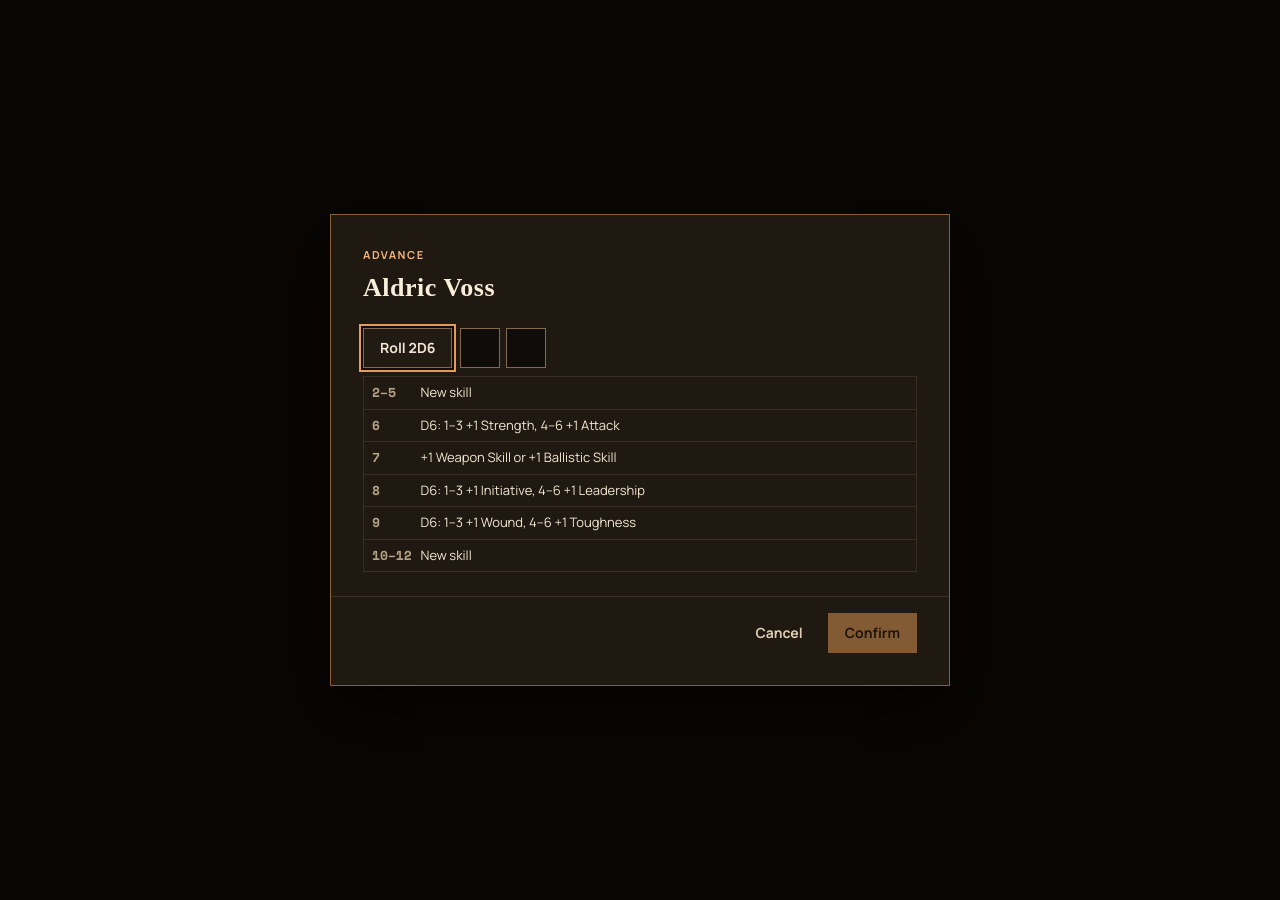
it: An advance on a written stat › warns that a written stat with no number gets nothing
Type "3" into the field named "First D6 rolled" at (480, 348), box [460,328,500,368]
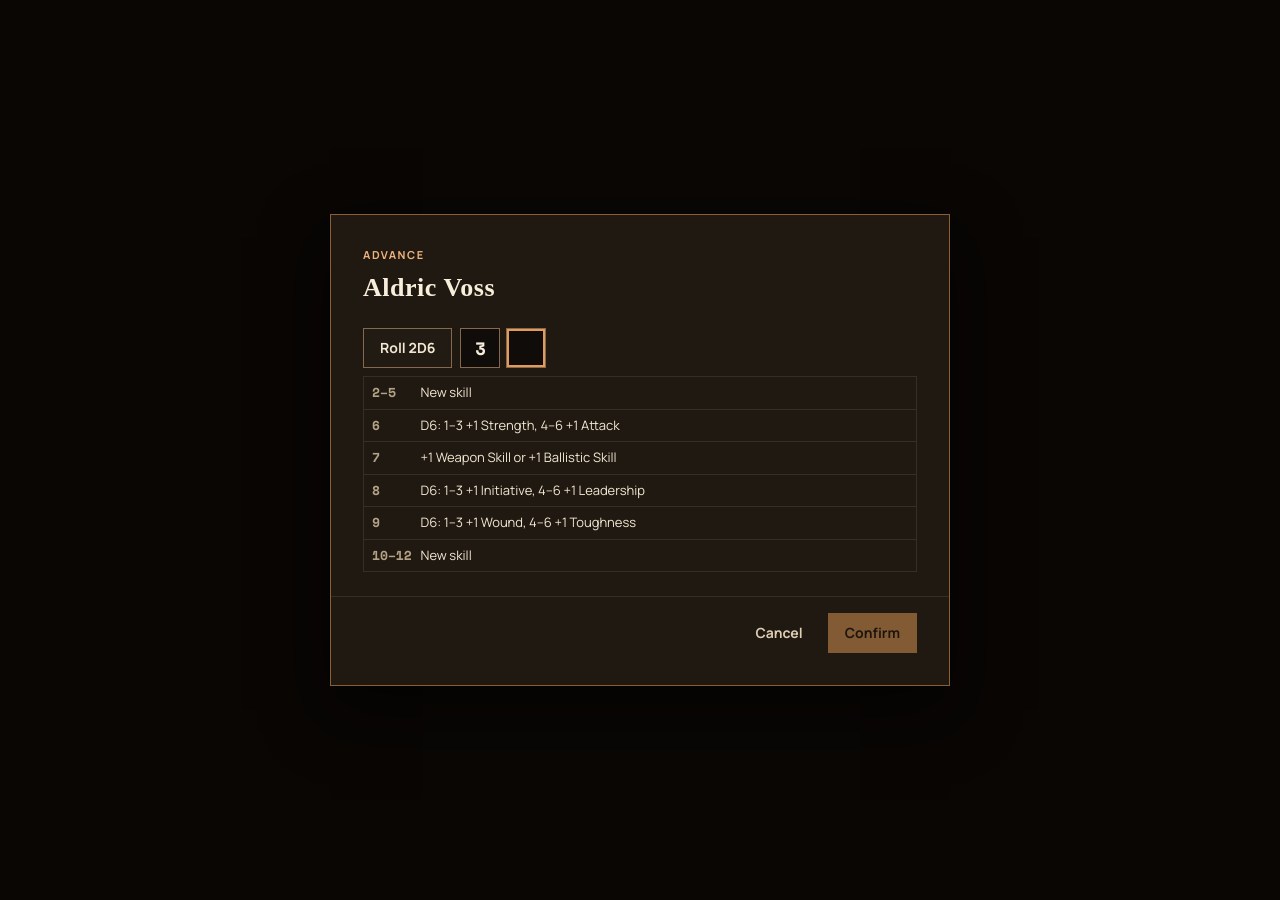
Type keys "4"
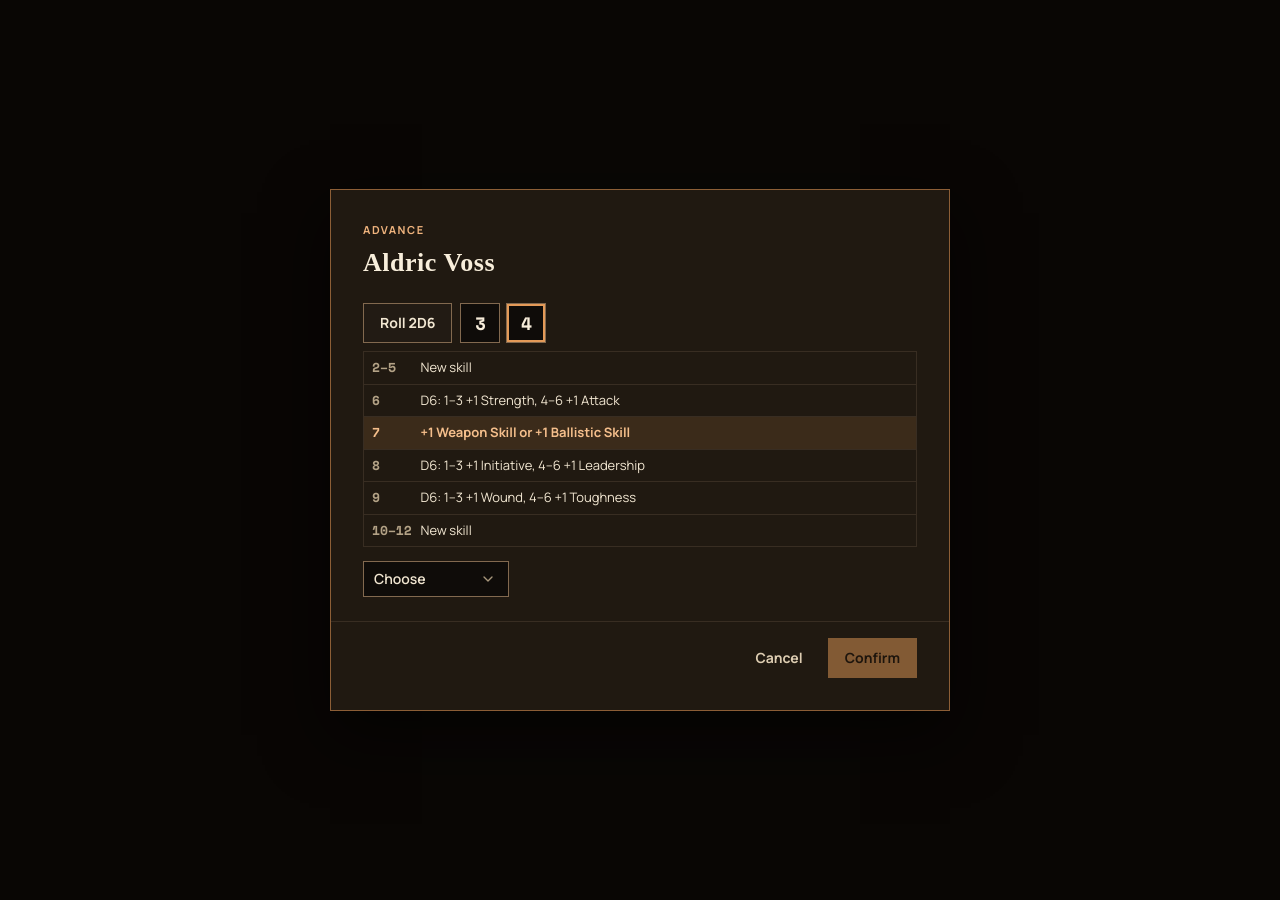
Select "+1 Weapon Skill" in the dropdown named "Characteristic" at (436, 579), box [363,561,509,597]
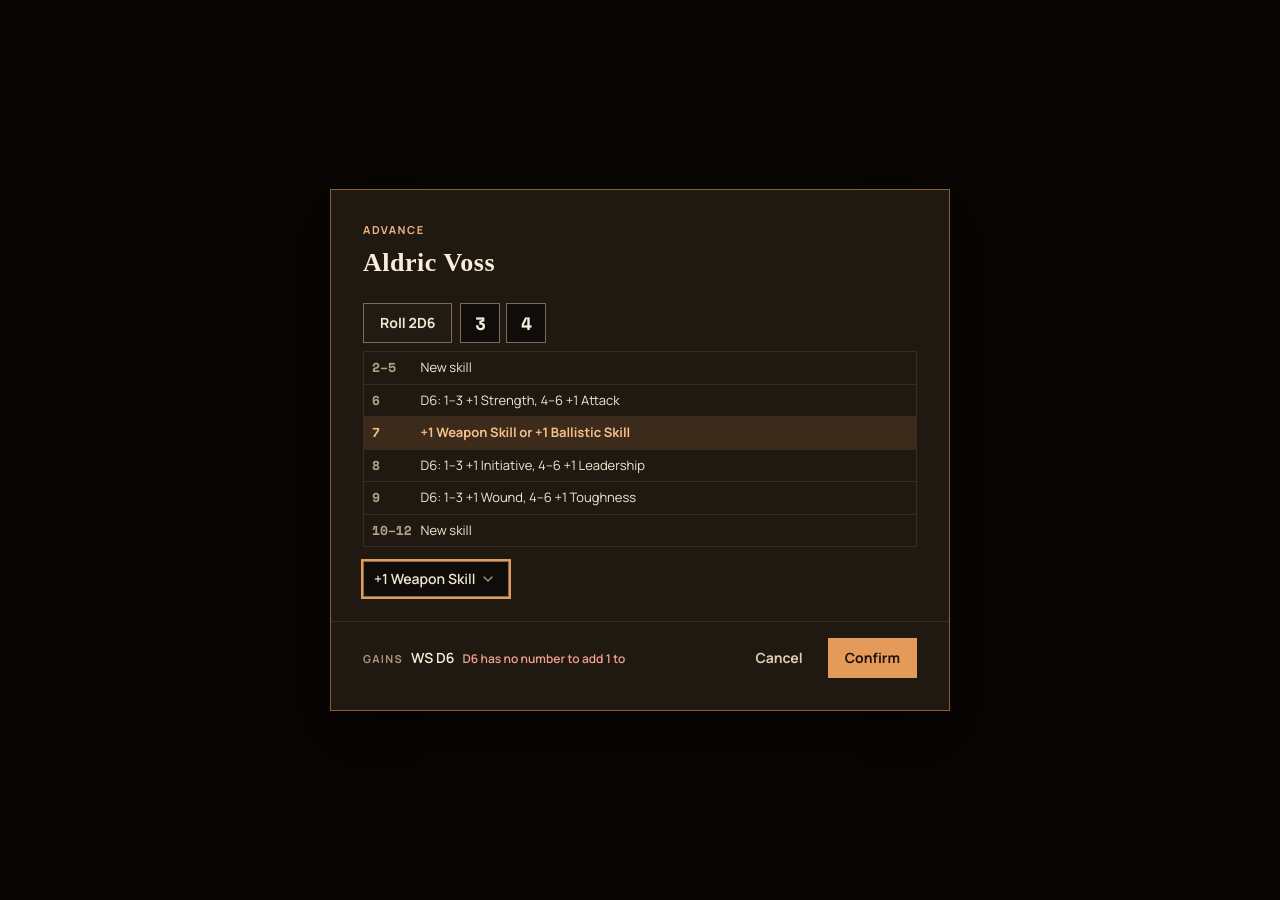
Expected: the text "Gains WS D6 D6 has no number to add 1 to" is shown, [363,648,625,668]
Expected: the text "D6 has no number to add 1 to" is shown, [462,650,625,666]
